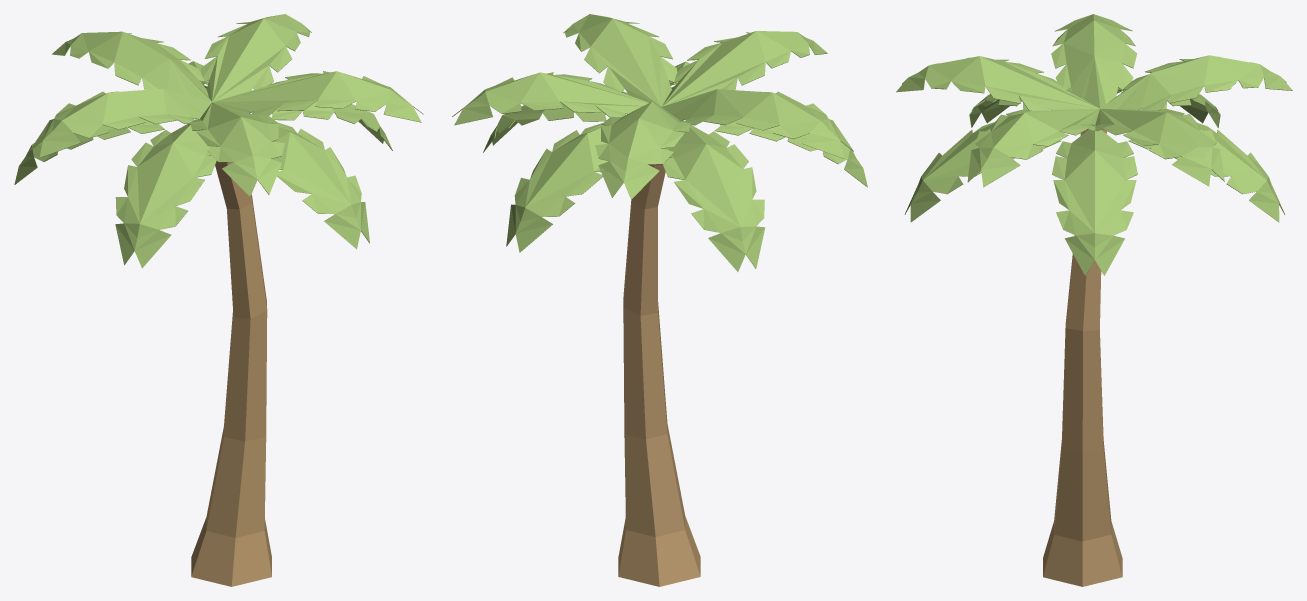
The model's file is Palm_1.fbx.
The picture shows the model from 3 angles, left to right: view 1: azimuth 30°, elevation 25°; view 2: azimuth 150°, elevation 25°; view 3: azimuth 270°, elevation 25°; orthographic projection. The views are drawn at different scales.
Visible parts, largest first — view 1: Palm_1; view 2: Palm_1; view 3: Palm_1.
Boxes of the visible parts, x1=… form: Palm_1: x1=14, y1=14, x2=423, y2=586; Palm_1: x1=452, y1=14, x2=867, y2=586; Palm_1: x1=896, y1=14, x2=1292, y2=586.
Bounding box in the file's own units: 292 × 393 × 288.
1 material, 1 textured.
